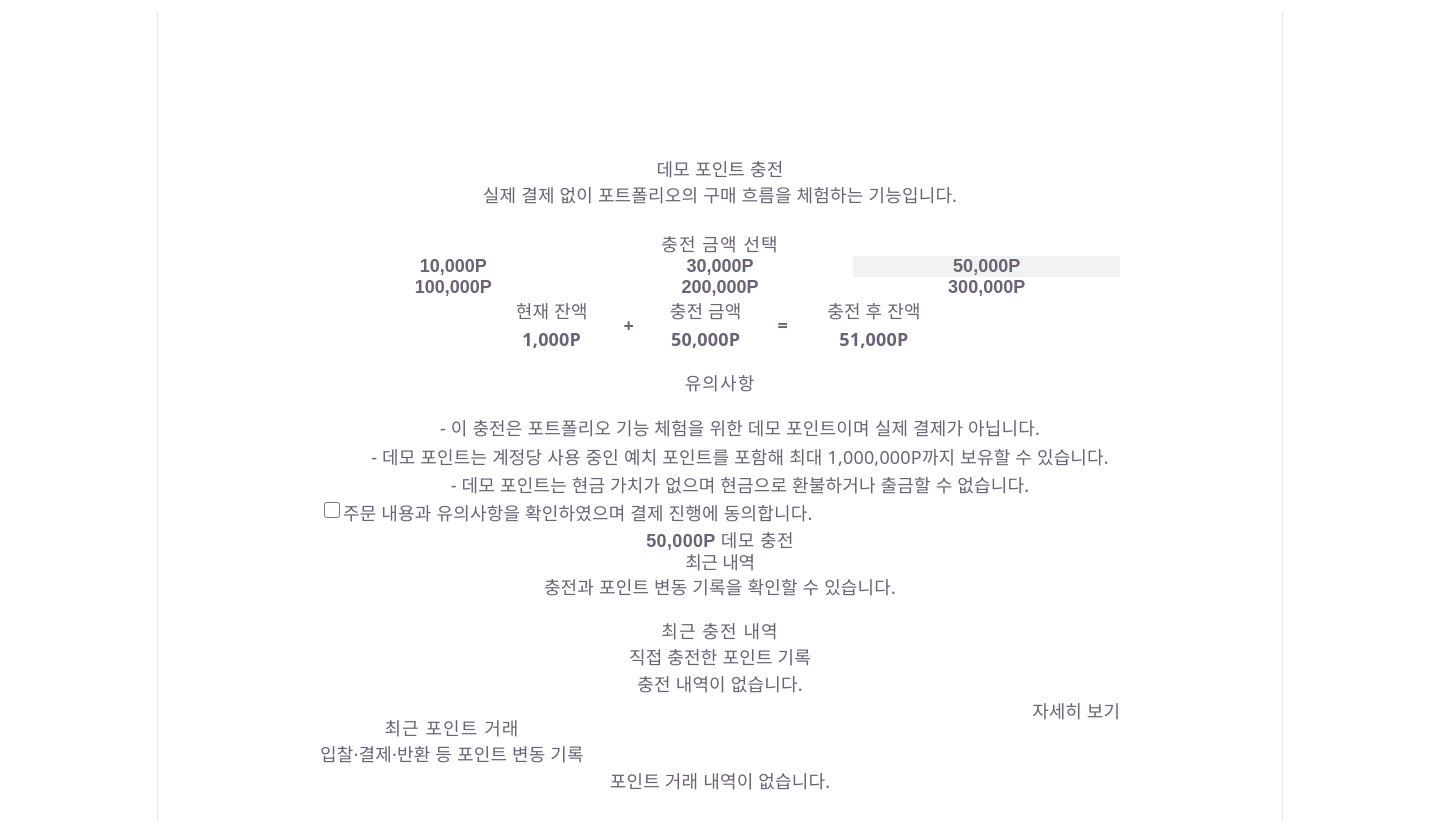
Test case: 데모 포인트 충전 화면 › 충전 요청 중 입력 변경과 같은 렌더의 연속 제출을 막고 요청 금액을 표시한다
Later steps or results of the test are not shown.
Expected: the button "50,000P 데모 충전" is enabled, [320,526,1120,552]
Click the checkbox at (332, 510), box [324,502,340,518]
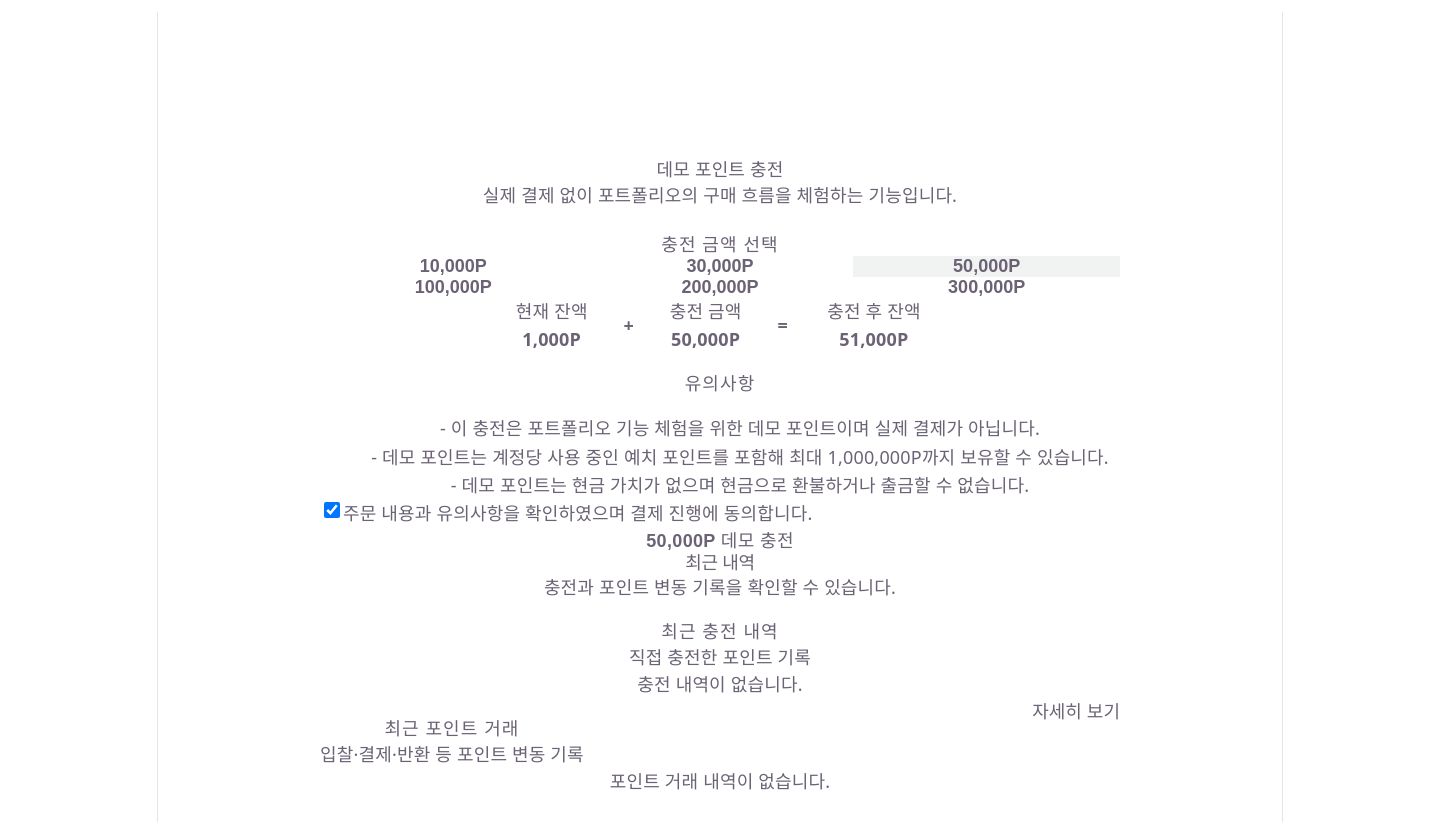
Submit the form named "50,000P 데모 충전", box [320,208,1120,794]
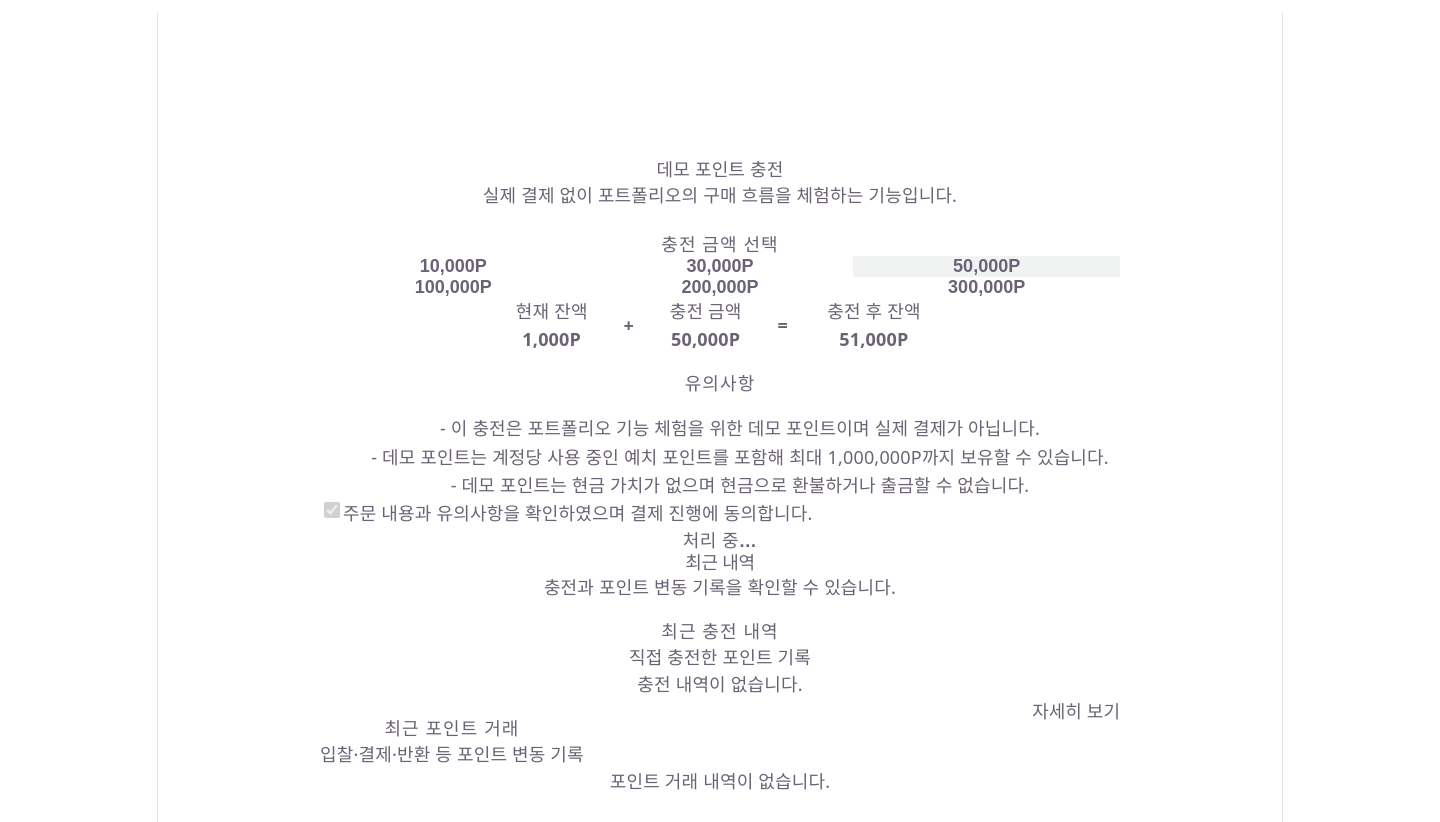
Submit the form named "50,000P 데모 충전", box [320,208,1120,794]
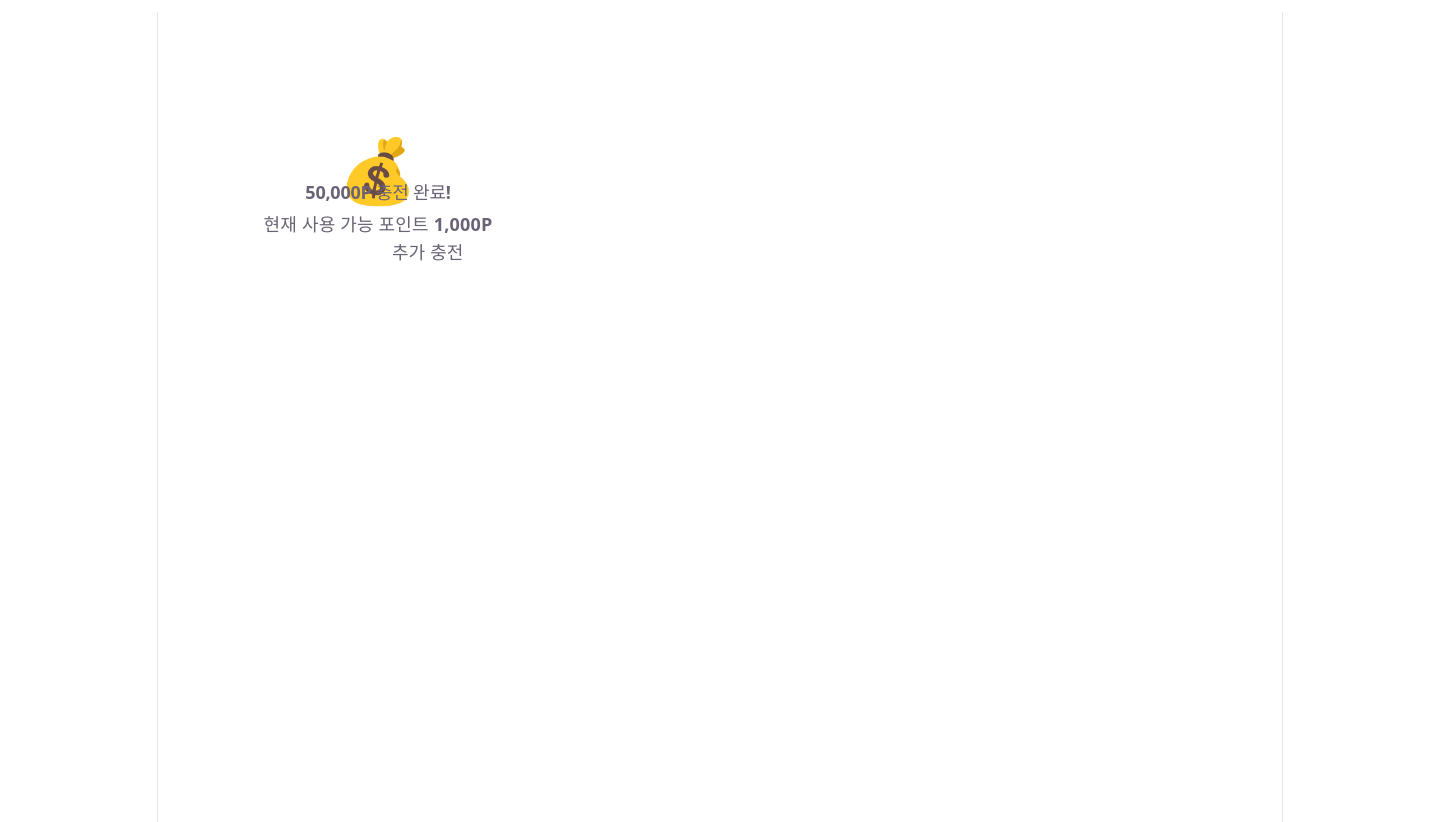
Expected: the heading "50,000P 충전 완료!" is shown, [305,182,451,203]
